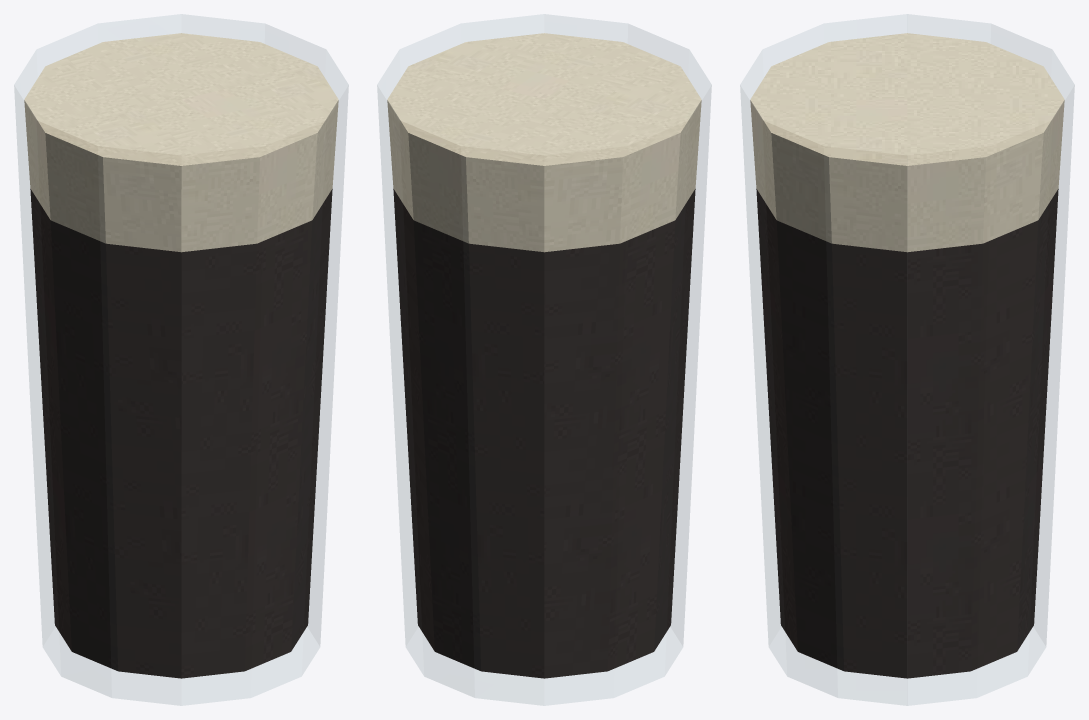
3 views of the same model, side by side, from view 1: azimuth 30°, elevation 25°; view 2: azimuth 150°, elevation 25°; view 3: azimuth 270°, elevation 25° (orthographic).
Visible parts, largest first — view 1: stout; view 2: stout; view 3: stout.
Part boxes in pixels (x1=…): stout: x1=14, y1=14, x2=348, y2=705; stout: x1=377, y1=14, x2=711, y2=705; stout: x1=740, y1=14, x2=1074, y2=705.
Bounding box in the file's own units: 0.082 × 0.152 × 0.082.
Materials: 3 (3 with a texture image).
